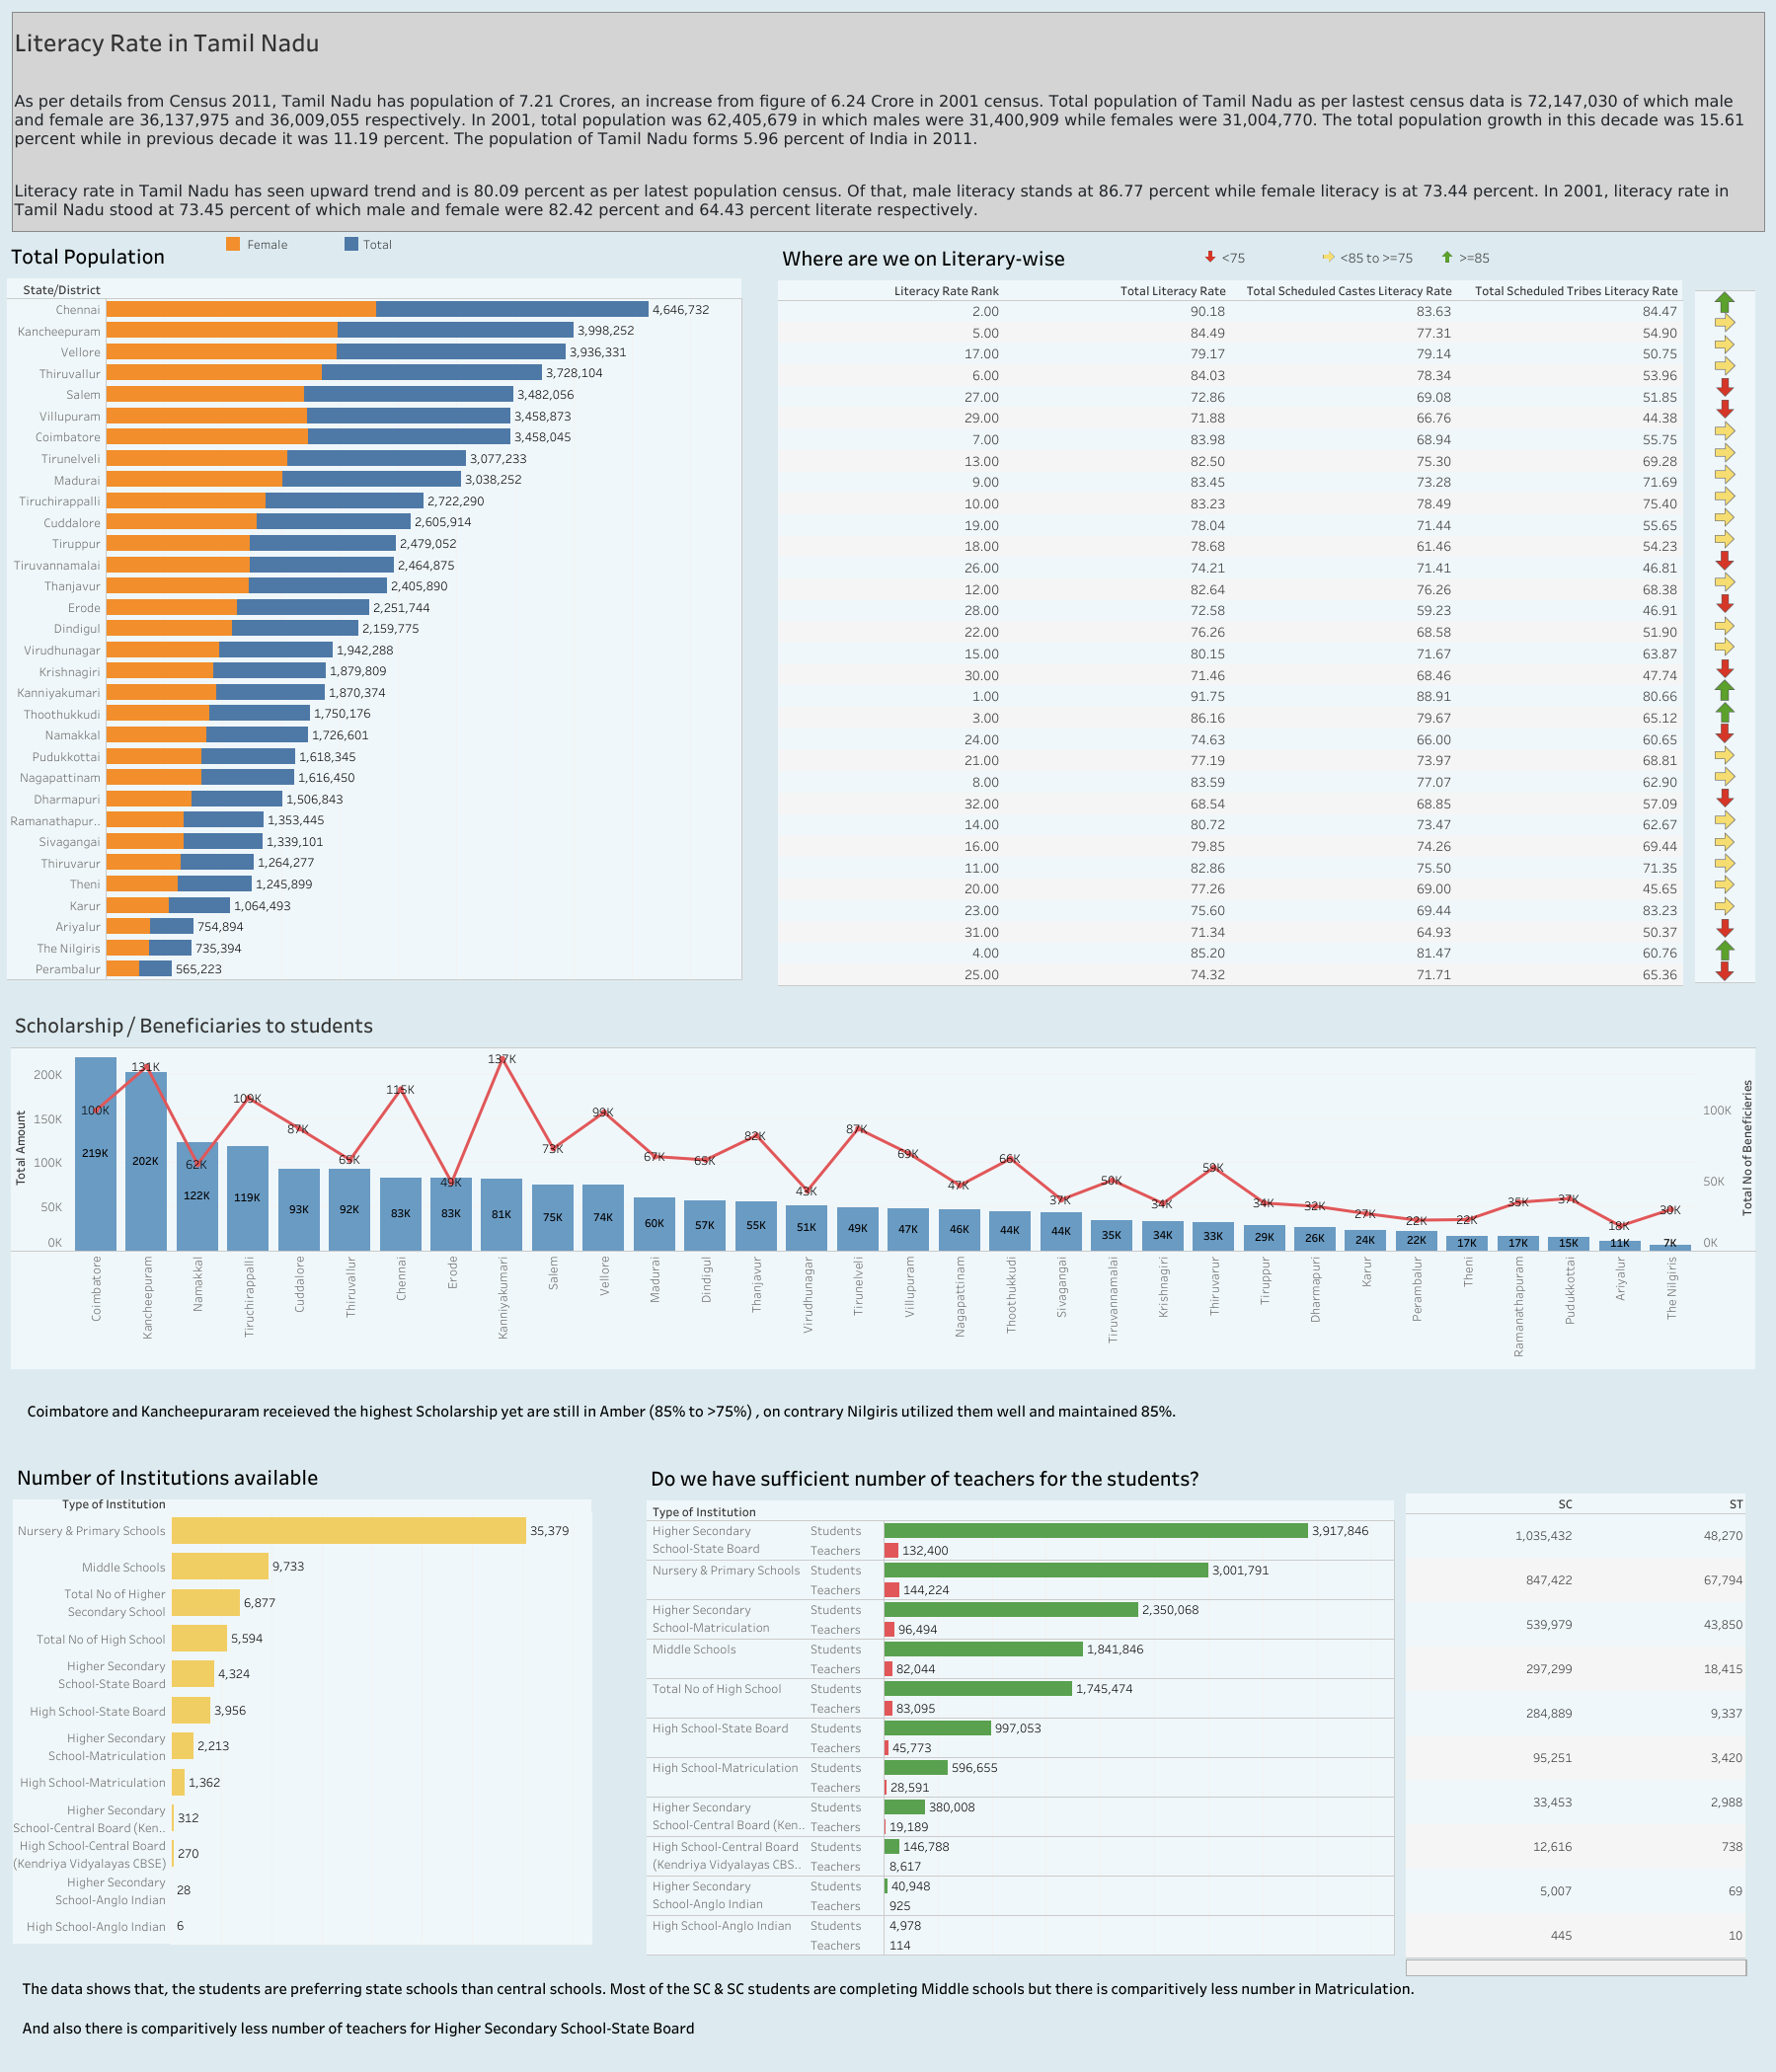

This screenshot's page, from the dashboard's own definition file:
{"tool":"tableau","page":{"name":"Dashboard 1","canvas":[1800,2100],"ordinal":0},"visuals":[{"type":"title","box":[8,8,1752,231]},{"type":"legend","title":"Sheet 1","param":"[federated.076ny1b0s60sp91d8cgc31po78b8].[:Measure Names]","box":[226,237,396,73]},{"type":"worksheet","title":"Sheet 2","mark":"Automatic","rows":["State/District"],"box":[703,238,903,758]},{"type":"worksheet","title":"Sheet 1","mark":"Bar","rows":["State/District"],"cols":["Total Population","Total population Female"],"box":[4,239,718,736]},{"type":"text","box":[8,239,1752,1853]},{"type":"legend","title":"Sheet 3","param":"[federated.076ny1b0s60sp91d8cgc31po78b8].[none:Calculation_1229764233287913472:n","box":[1057,248,570,61]},{"type":"worksheet","title":"Sheet 3","mark":"Shape","rows":["State/District"],"box":[1629,294,141,702]},{"type":"worksheet","title":"Sheet 4","mark":"Automatic","rows":["Total No of Beneficiaries (SC+ST+MBC/DNC+BC Christian+Muslim"],"cols":["State/District"],"box":[11,1018,1682,370]},{"type":"worksheet","title":"Sheet 5","mark":"Automatic","rows":["Type of Institution"],"cols":["No. of Institutions"],"box":[73,1503,383,493]}]}

Visuals, with their boxes in screenshot pixels (x1, y1, x2, y2), scaled from the page's 1800x2100 canvas onto the 1776x2072 screenshot:
title: left=8, top=8, right=1737, bottom=236
"Sheet 1" legend: left=223, top=234, right=614, bottom=306
"Sheet 2" worksheet: left=694, top=235, right=1584, bottom=983
"Sheet 1" worksheet (Bar marks): left=4, top=236, right=713, bottom=962
text: left=8, top=236, right=1737, bottom=2064
"Sheet 3" legend: left=1042, top=245, right=1605, bottom=305
"Sheet 3" worksheet (Shape marks): left=1607, top=290, right=1746, bottom=983
"Sheet 4" worksheet: left=11, top=1005, right=1670, bottom=1369
"Sheet 5" worksheet: left=72, top=1483, right=450, bottom=1969
